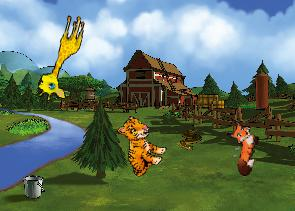fox: (217, 118, 264, 177)
giraffe: (34, 10, 87, 104)
tiger: (103, 112, 173, 181)
